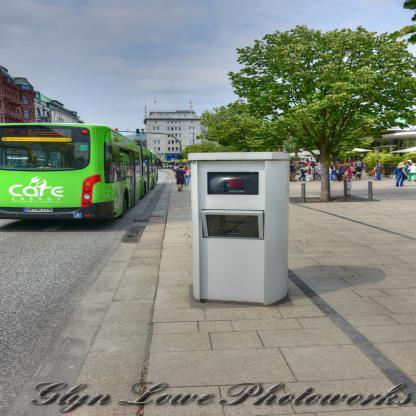bus: (3, 118, 164, 224)
